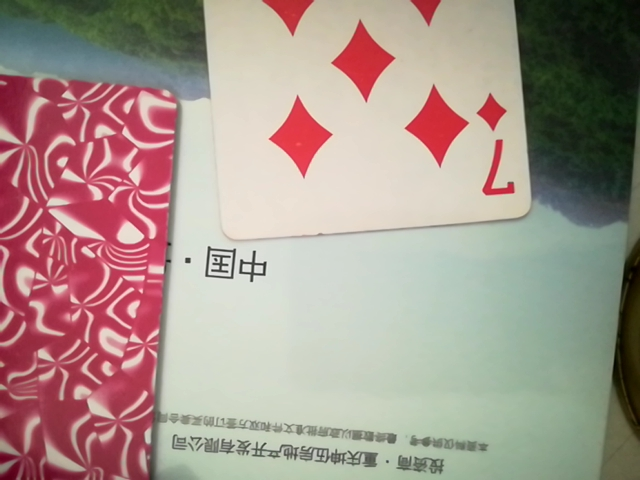fk 7: (205, 2, 532, 247)
